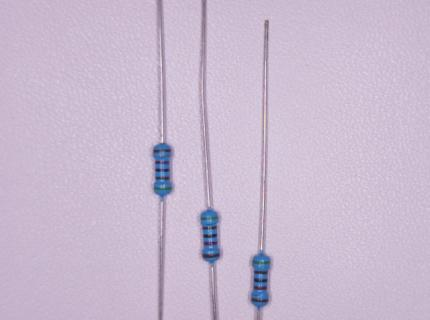Black band: (155, 168, 170, 172), (203, 234, 218, 238), (253, 278, 268, 282)
Brown band: (202, 253, 220, 258), (251, 298, 269, 303), (153, 149, 172, 153), (254, 270, 268, 275), (202, 226, 217, 230), (155, 176, 170, 180)
Green band: (252, 260, 271, 264), (200, 216, 218, 220), (154, 187, 172, 190)
Red band: (155, 160, 170, 165), (253, 286, 268, 290), (204, 241, 218, 245)
